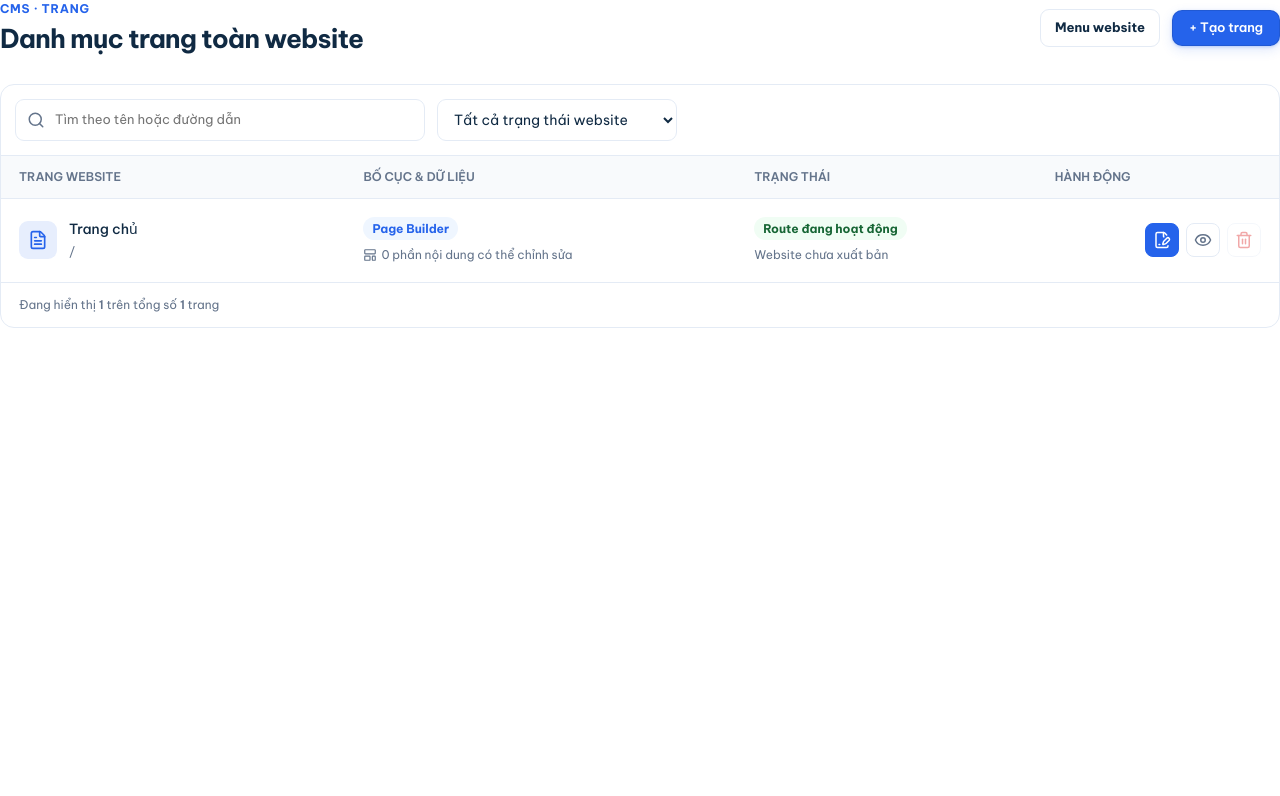
Test case: site pages admin draft › publishes the saved revision only after explicit dialog confirmation
Step 1. Click the button named "Sửa trang Trang chủ" → (1162, 240), box x1=1145 y1=223 x2=1179 y2=257
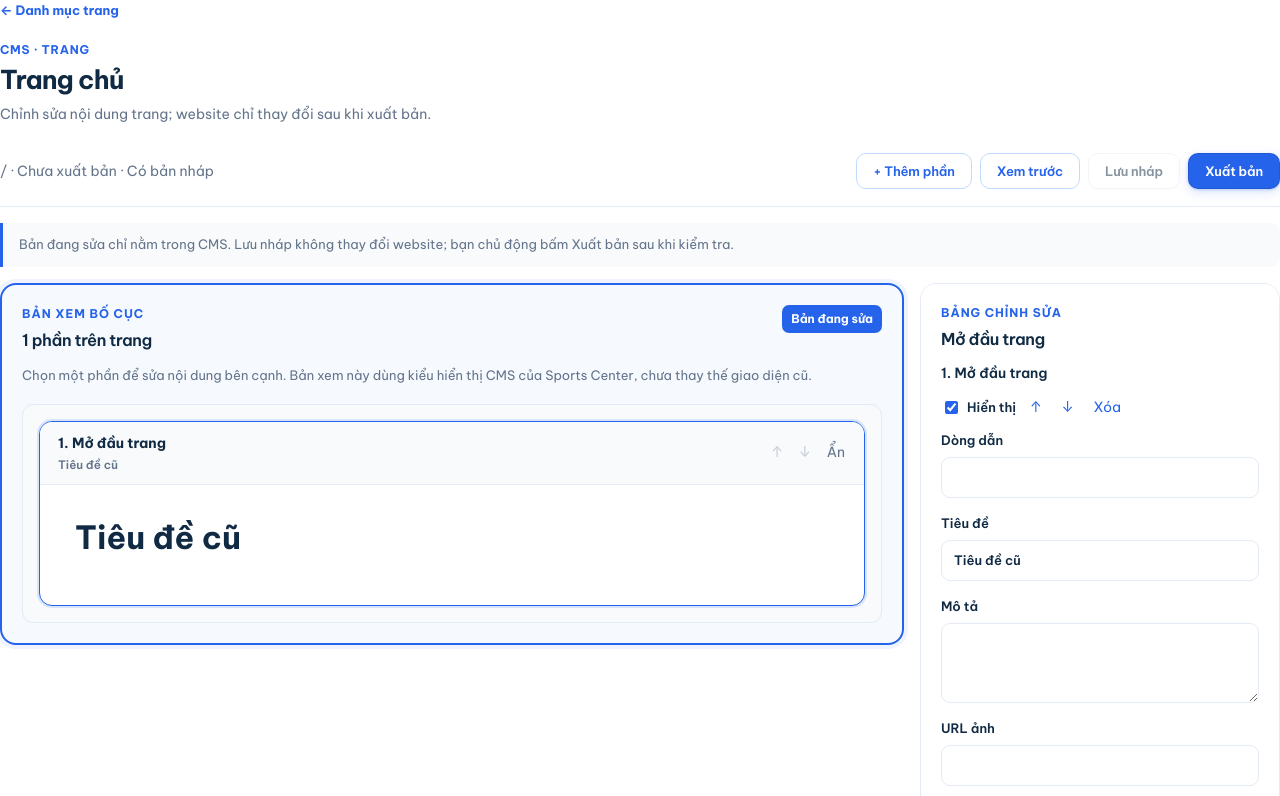
Step 2. Click the button "Xuất bản" → (1234, 171), box x1=1188 y1=153 x2=1279 y2=189
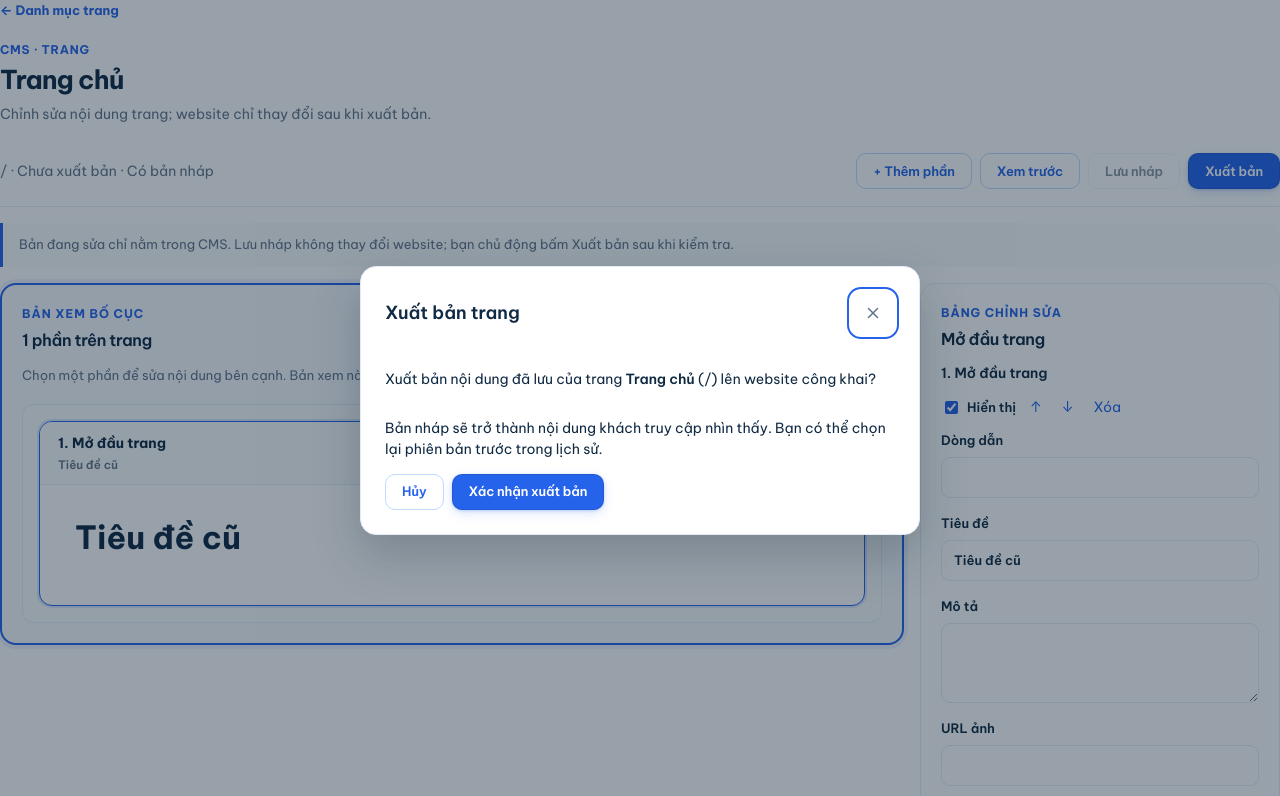
Step 3. Click the button "Xác nhận xuất bản" → (528, 492), box x1=452 y1=474 x2=604 y2=510
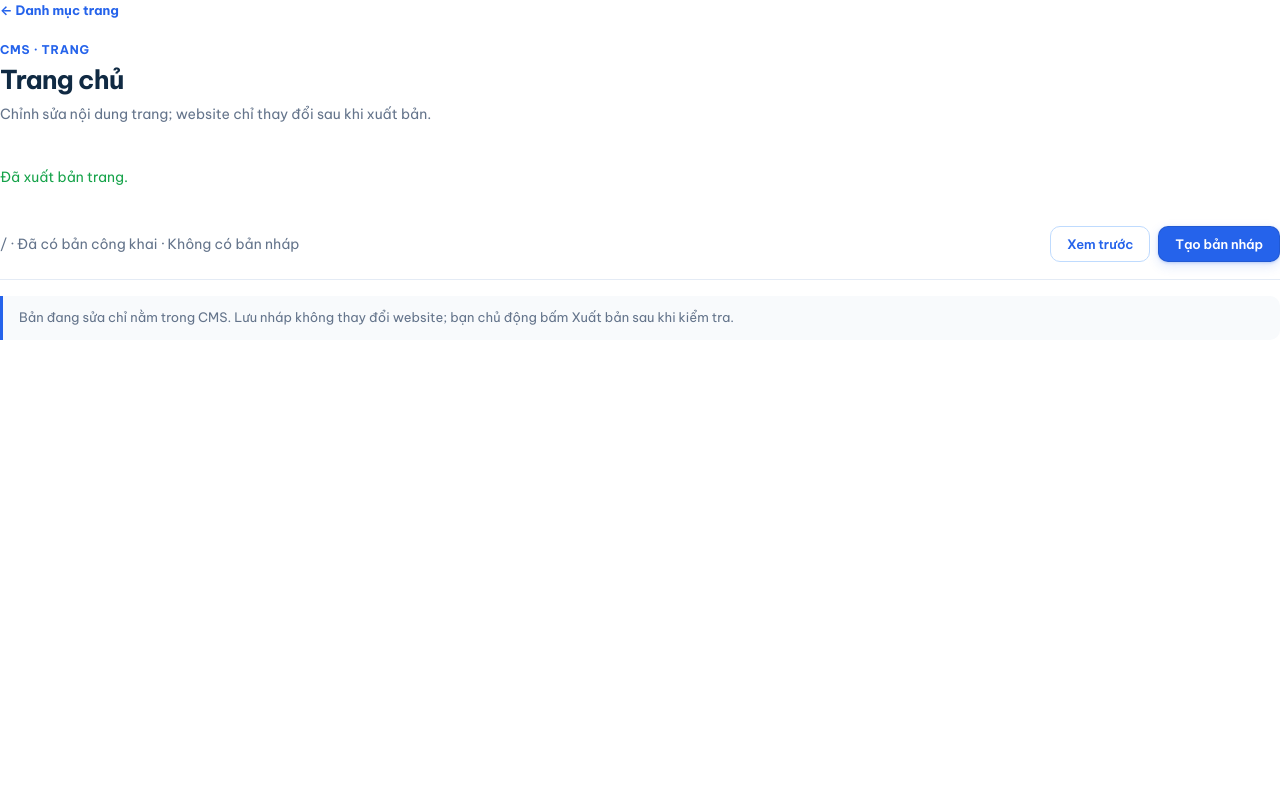
expect the text "Đã xuất bản trang." is shown: met, box x1=0 y1=168 x2=128 y2=186
